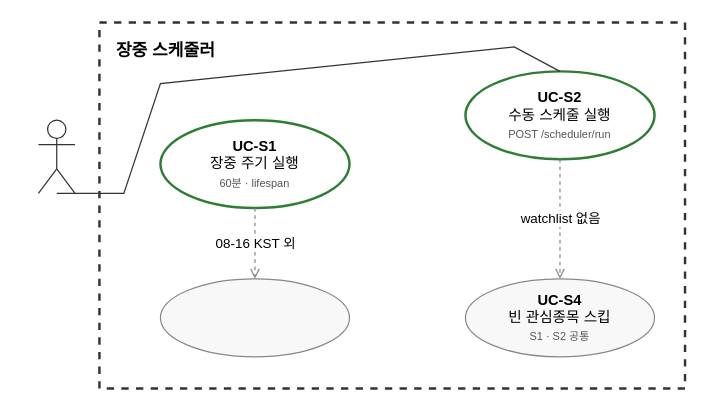
This 708x410 diagram has some shape labels left out. Here are the shapes that lost their labels. From the top down, the centre of each, then its label:
At (56,156): "개인 투자자".
At (254,317): "UC-S3 장외 실행 생략".
